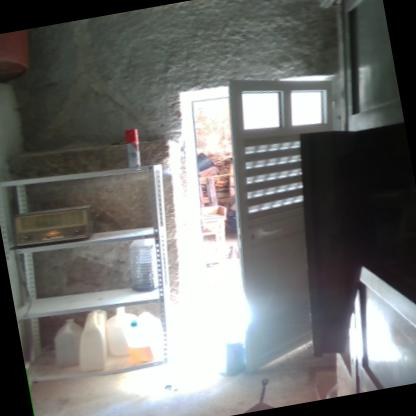semi: (144, 46, 397, 382)
